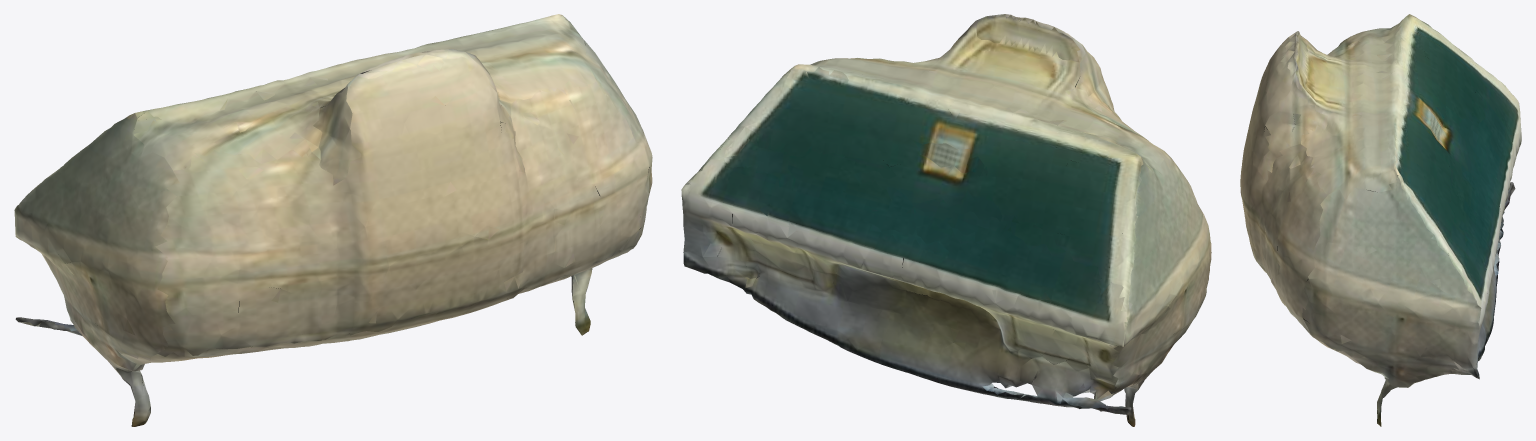
3 views of the same model, side by side, from view 1: azimuth 30°, elevation 25°; view 2: azimuth 150°, elevation 25°; view 3: azimuth 270°, elevation 25° (orthographic). The views are drawn at different scales.
Parts seen in each view (by area): view 1: world; view 2: world; view 3: world.
Boxes of the visible parts, box(x1,y1,x2,y2) form: world: box(14, 14, 652, 426); world: box(681, 14, 1211, 426); world: box(1240, 14, 1521, 426).
Size of the model in its own units: 0.8875 by 0.5806 by 0.4936.
Materials: 1 (1 with a texture image).
